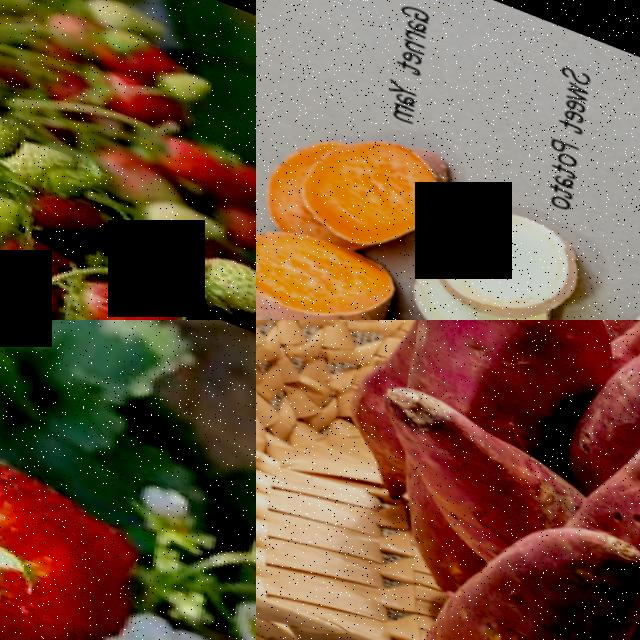strawberry: (0, 410, 152, 640), (173, 225, 256, 318), (134, 112, 230, 182), (52, 255, 146, 320)
sweet potato: (351, 371, 560, 530), (277, 95, 461, 270), (452, 482, 640, 640), (384, 320, 614, 444), (412, 173, 591, 320), (256, 180, 410, 320)
